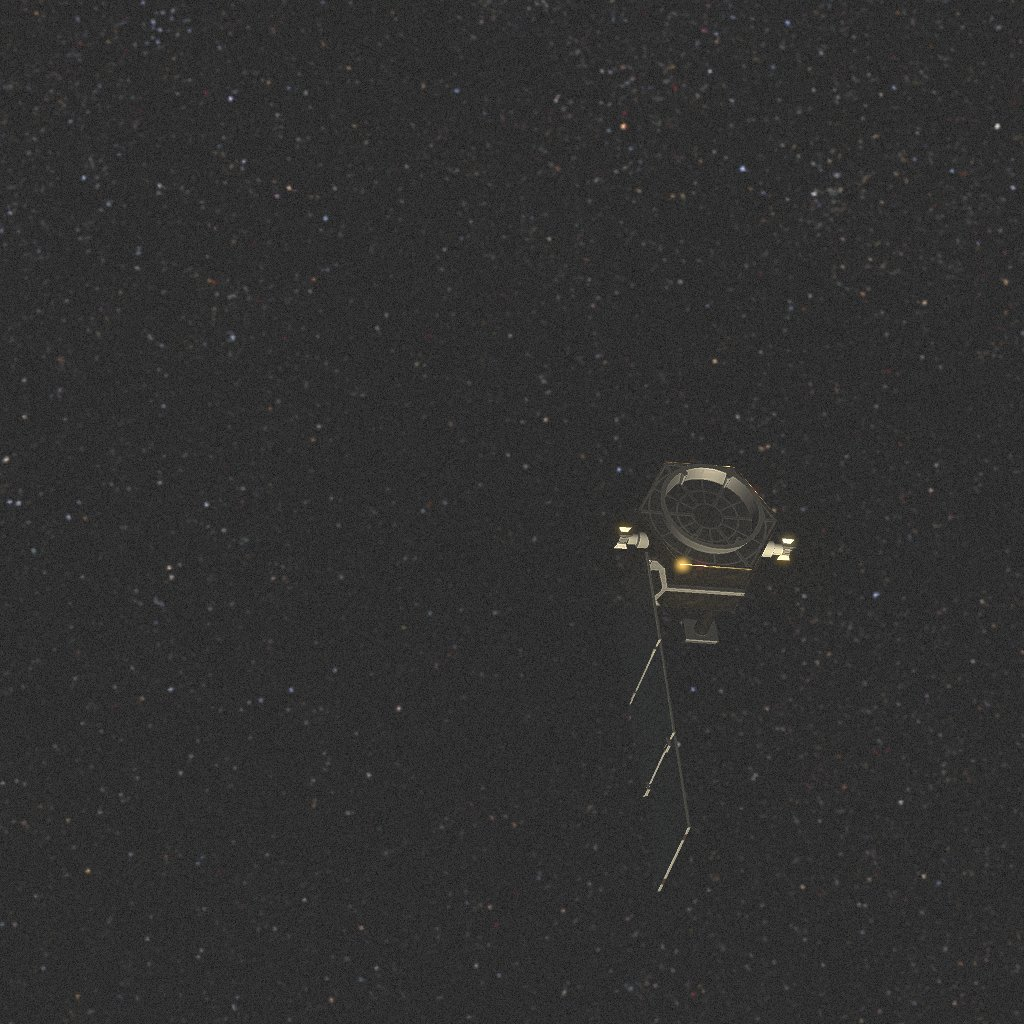earth_observation_sat_1: (613, 460, 796, 891)
